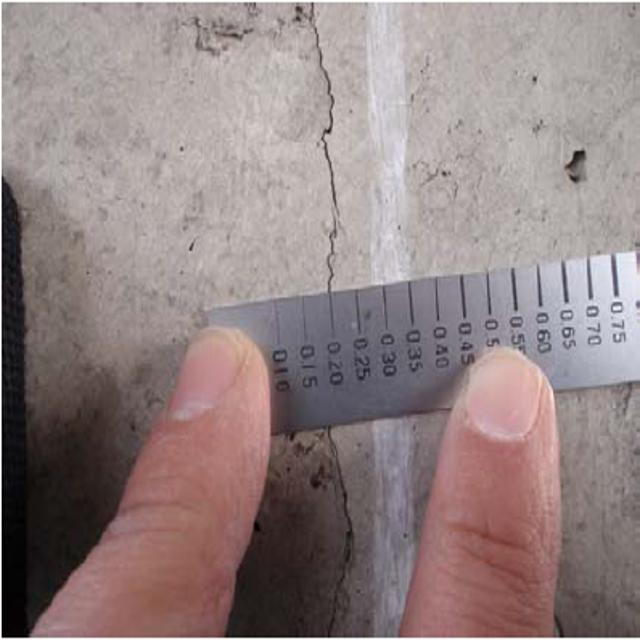crack: (298, 3, 362, 286), (313, 434, 366, 637)
